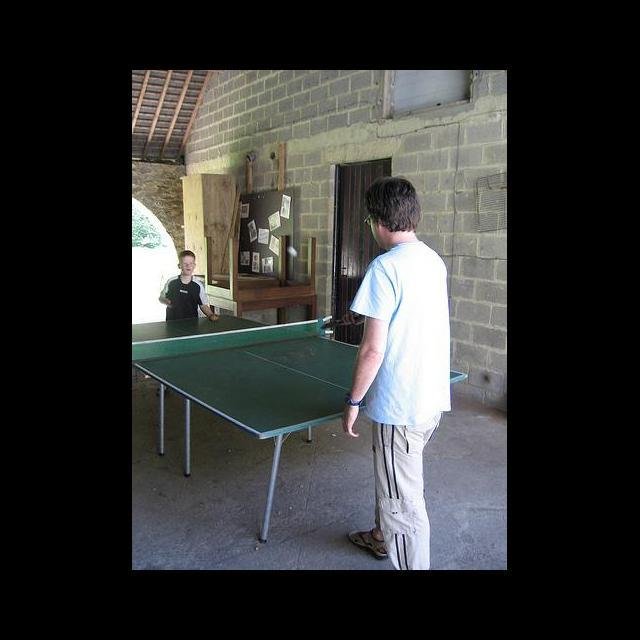ping-pong-ball: (288, 246, 298, 257)
